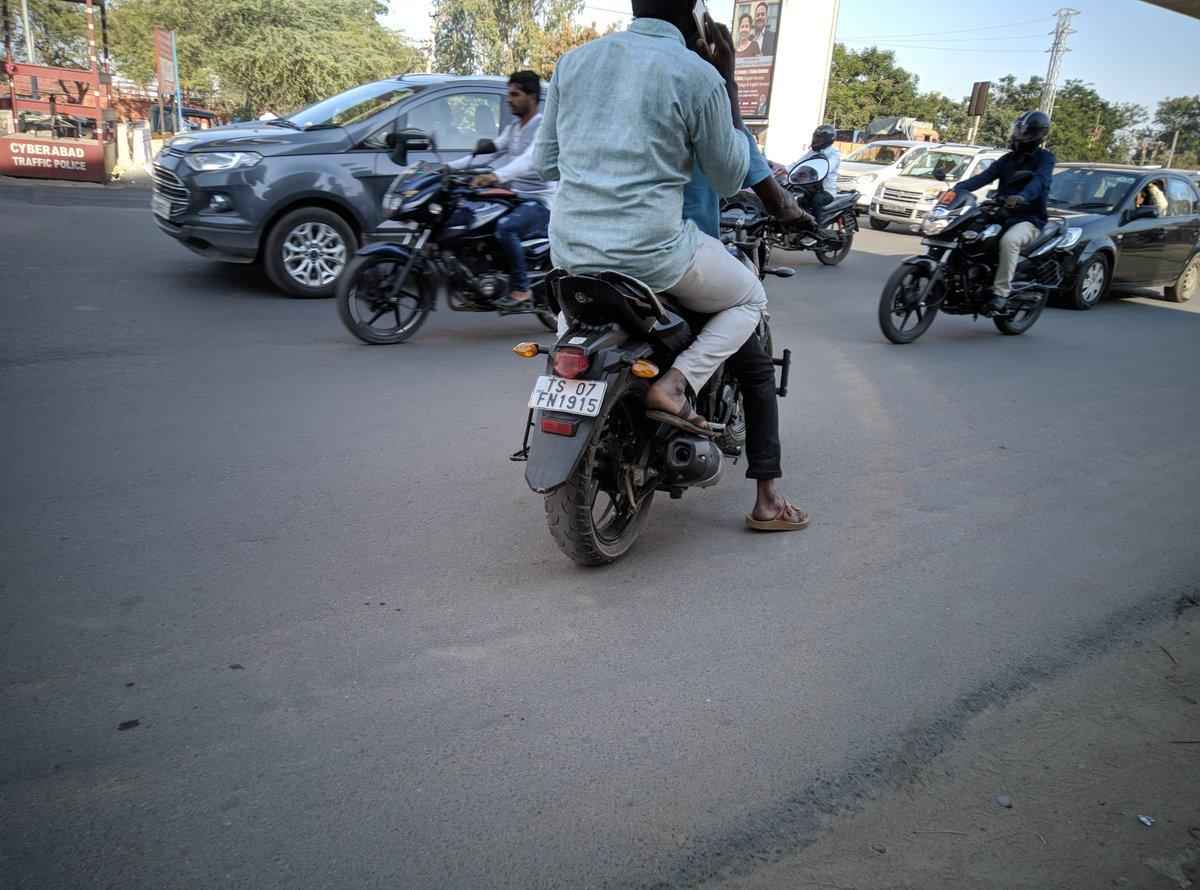plate: (529, 374, 601, 422)
